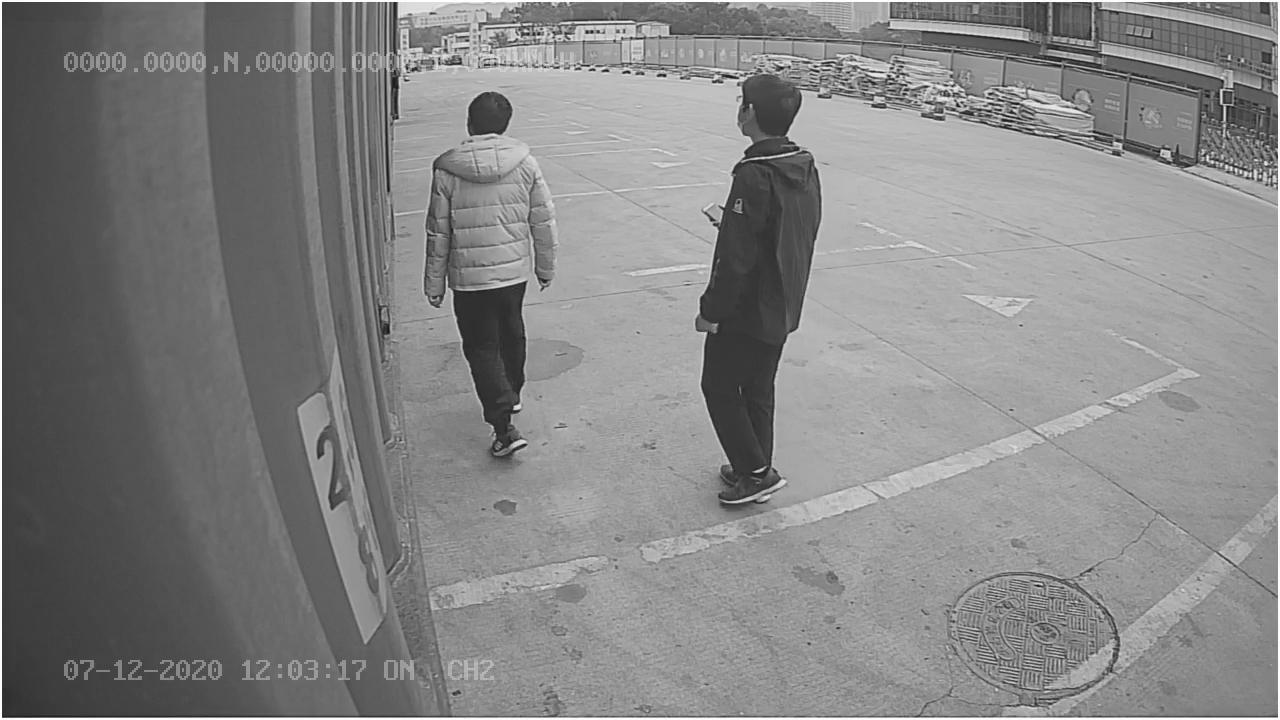person: (696, 62, 827, 512), (424, 89, 568, 463)
